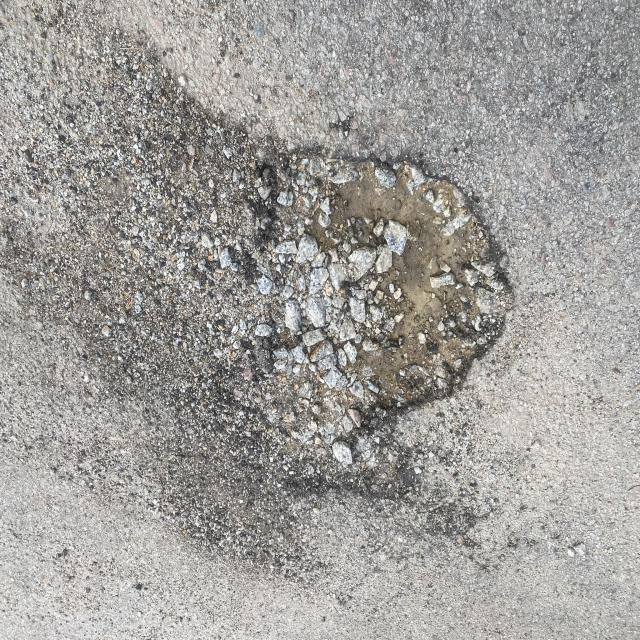Pothole: (126, 45, 610, 582)
